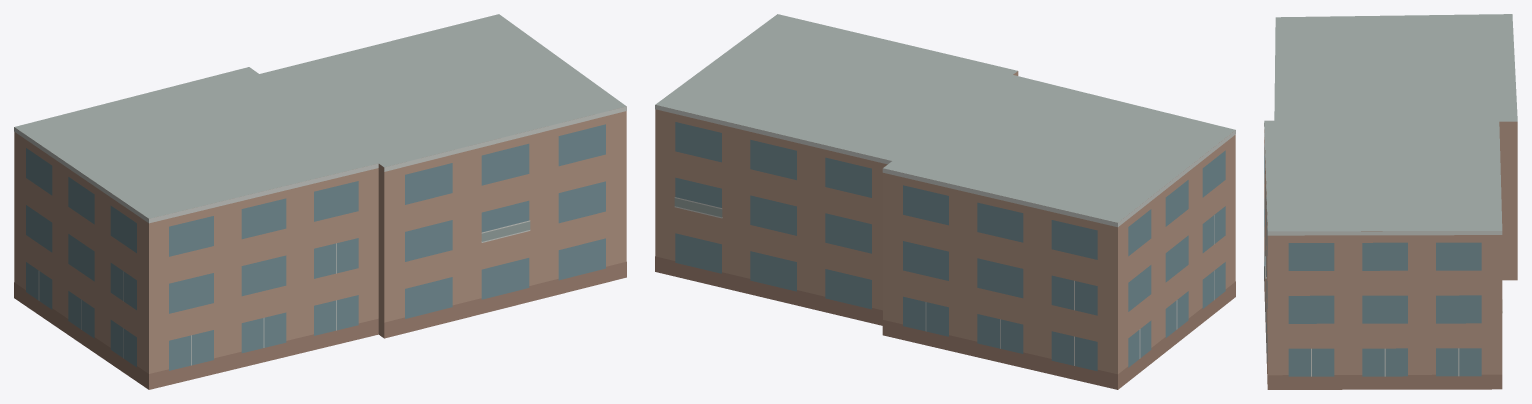
File: survey-upis-32754361.glb
The picture shows the model from 3 angles, left to right: view 1: azimuth 30°, elevation 25°; view 2: azimuth 150°, elevation 25°; view 3: azimuth 270°, elevation 25°; orthographic projection. The views are drawn at different scales.
Visible parts, largest first — view 1: survey-upis-32754361.tmp; view 2: survey-upis-32754361.tmp; view 3: survey-upis-32754361.tmp.
Part boxes in pixels (x1,y1,x2,y2): survey-upis-32754361.tmp: (14,14,626,389); survey-upis-32754361.tmp: (655,14,1235,389); survey-upis-32754361.tmp: (1264,14,1517,389).
Bounding box in the file's own units: 26.9 × 9.15 × 13.27.
